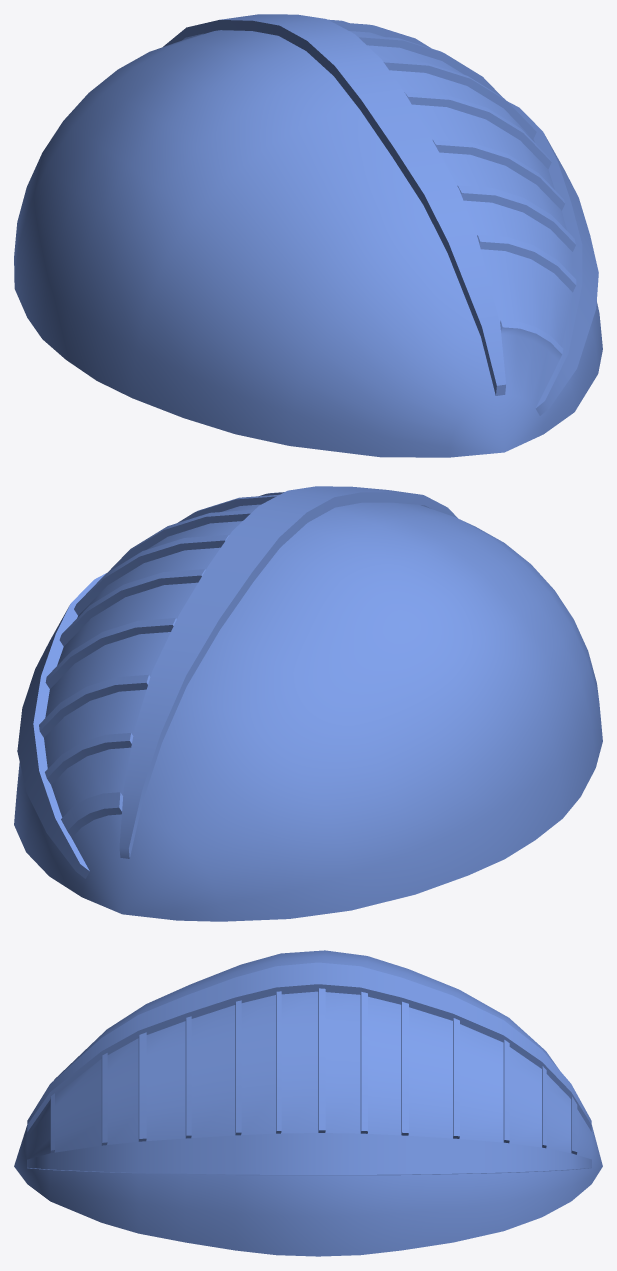
File: artesyciencias.fbx
3 renders of one model, top to bottom at view 1: azimuth 30°, elevation 25°; view 2: azimuth 150°, elevation 25°; view 3: azimuth 270°, elevation 25°, orthographic. The views are drawn at different scales.
Parts seen in each view (by area): view 1: Sphere, Sphere.002, Sphere.001; view 2: Sphere, Sphere.002, Sphere.001; view 3: Sphere, Sphere.001, Sphere.002.
Boxes of the visible parts, x1,y1,x2,y2 form: Sphere: (14, 19, 602, 457); Sphere.002: (163, 14, 506, 395); Sphere.001: (507, 101, 598, 415); Sphere: (14, 492, 602, 921); Sphere.002: (119, 486, 457, 858); Sphere.001: (17, 573, 106, 878); Sphere: (14, 950, 602, 1256); Sphere.001: (27, 1133, 591, 1175); Sphere.002: (27, 962, 591, 1131).
Bounding box in the file's own units: 1452 × 778 × 2033.
